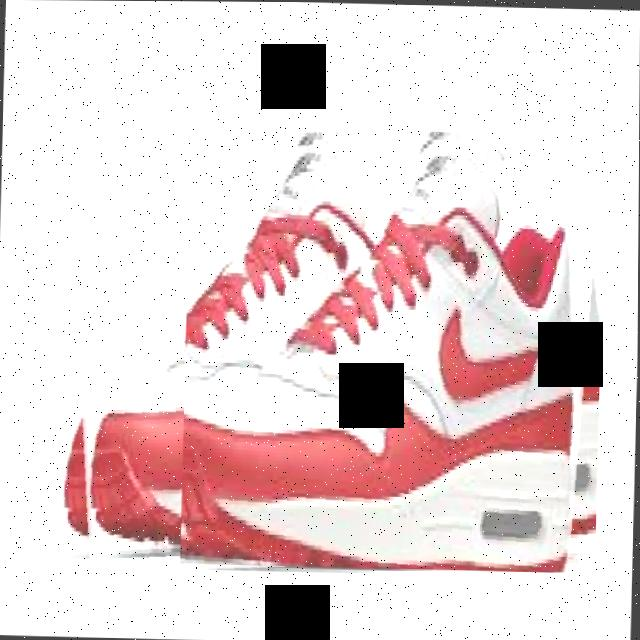shoe: (58, 122, 606, 584), (180, 136, 603, 573)
